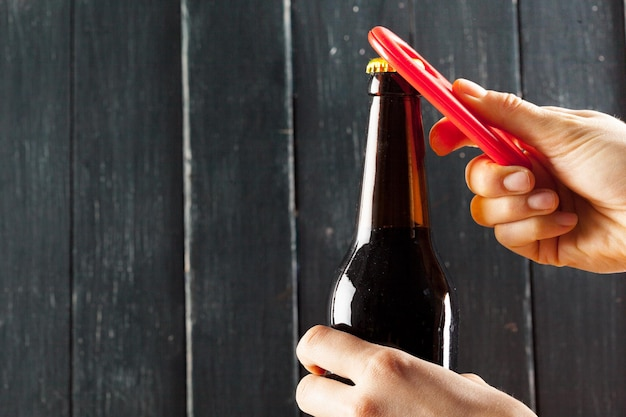alcohol: (323, 58, 456, 417)
